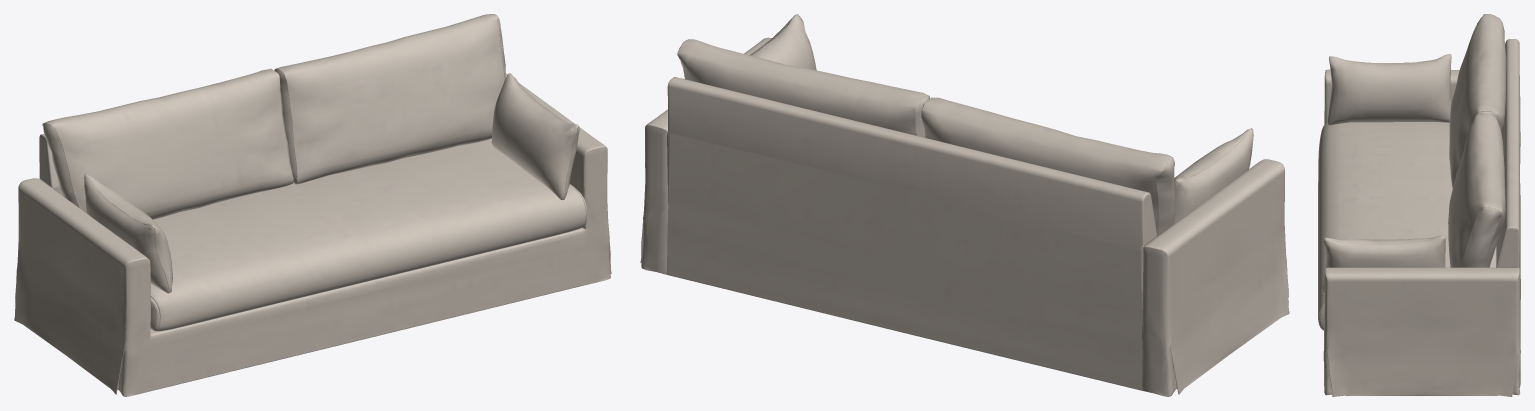
3 renders of one model, left to right at view 1: azimuth 30°, elevation 25°; view 2: azimuth 150°, elevation 25°; view 3: azimuth 270°, elevation 25°, orthographic. The views are drawn at different scales.
Visible parts, largest first — view 1: Mesh_0.001; view 2: Mesh_0.001; view 3: Mesh_0.001.
Boxes of the visible parts, x1,y1,x2,y2 form: Mesh_0.001: (14,14,611,396); Mesh_0.001: (640,14,1289,396); Mesh_0.001: (1318,14,1520,396).
Size of the model in its own units: 2.32 by 0.91 by 0.93.
1 material, 1 textured.
